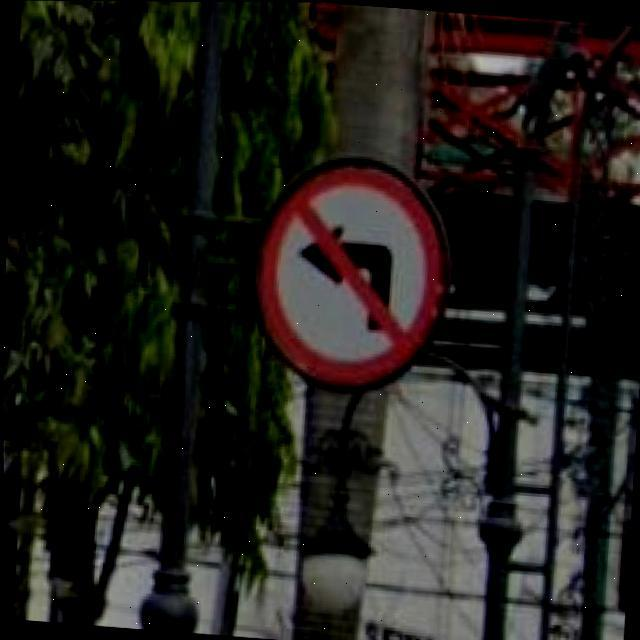Dilarang Belok Kiri: (255, 164, 447, 388)
